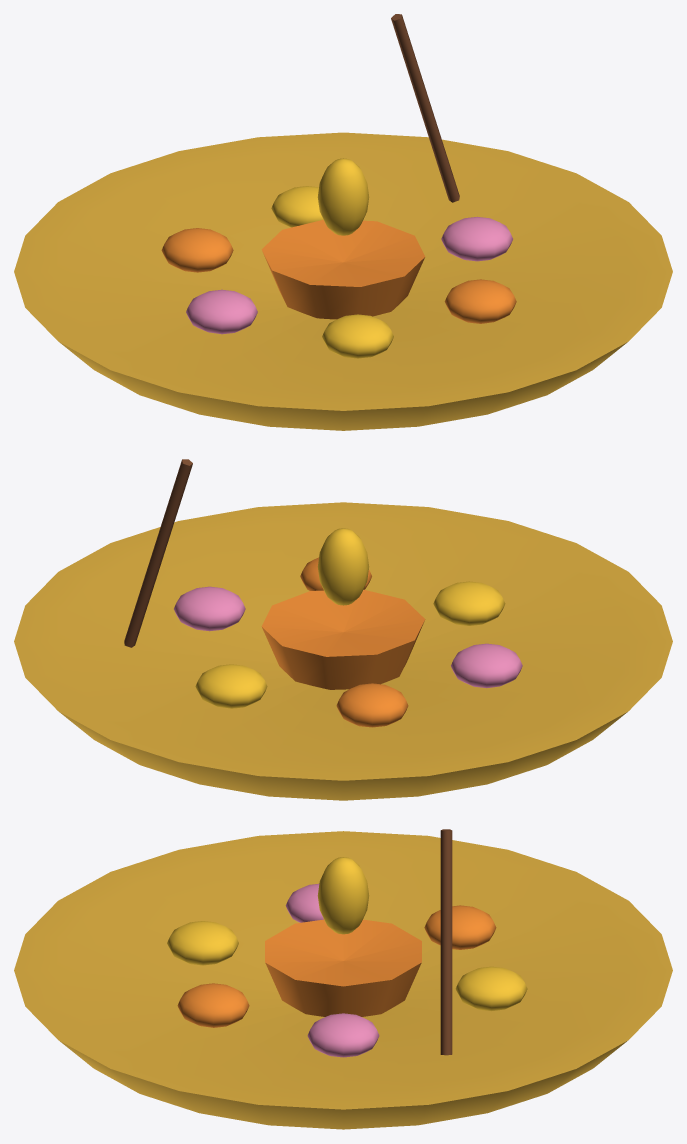
The model's file is puja_thali.glb.
The picture shows the model from 3 angles, top to bottom: view 1: azimuth 30°, elevation 25°; view 2: azimuth 150°, elevation 25°; view 3: azimuth 270°, elevation 25°; orthographic projection.
Parts seen in each view (by area): view 1: root; view 2: root; view 3: root.
Part boxes in pixels (x1,y1,x2,y2): root: (14,14,672,430); root: (14,459,672,800); root: (14,829,672,1129).
Size of the model in its own units: 0.64 by 0.2569 by 0.64.
